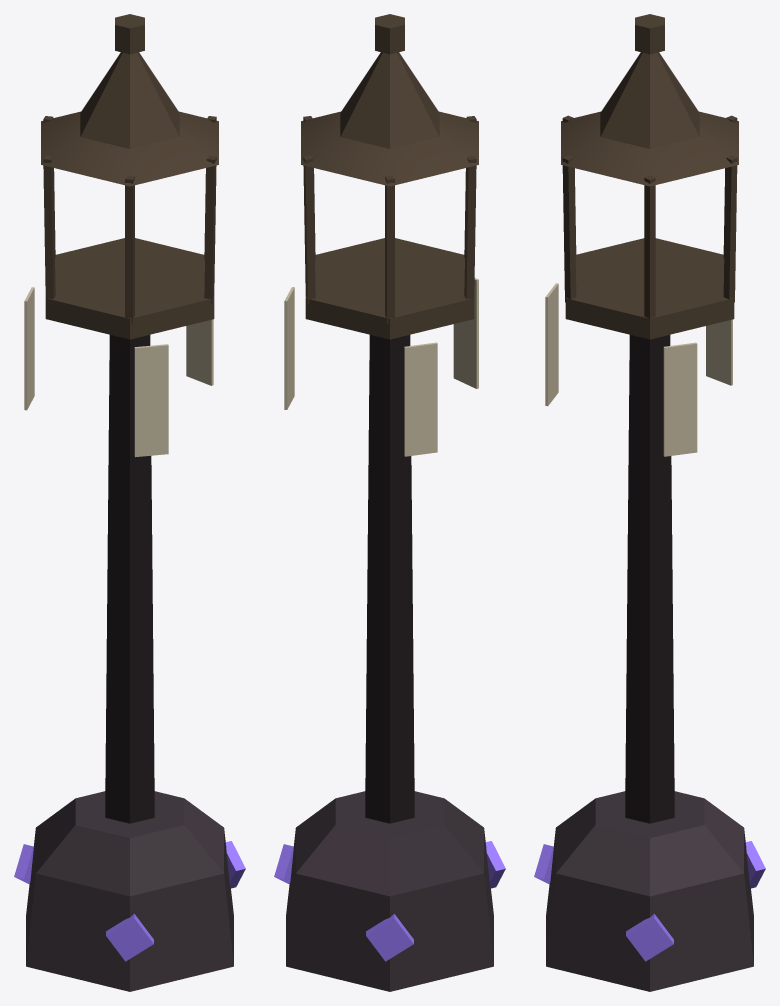
File: spirit_lantern.glb
3 renders of one model, left to right at view 1: azimuth 30°, elevation 25°; view 2: azimuth 150°, elevation 25°; view 3: azimuth 270°, elevation 25°, orthographic.
Parts seen in each view (by area): view 1: spirit_lantern, spirit_lantern_glyph; view 2: spirit_lantern, spirit_lantern_glyph; view 3: spirit_lantern, spirit_lantern_glyph.
Boxes of the visible parts, bbox=[...] form: spirit_lantern: bbox=[24, 14, 233, 991]; spirit_lantern_glyph: bbox=[14, 841, 245, 961]; spirit_lantern: bbox=[284, 14, 493, 991]; spirit_lantern_glyph: bbox=[274, 841, 505, 961]; spirit_lantern: bbox=[545, 14, 753, 991]; spirit_lantern_glyph: bbox=[534, 841, 765, 961].
Size of the model in its own units: 0.84 by 3.55 by 0.8109.
